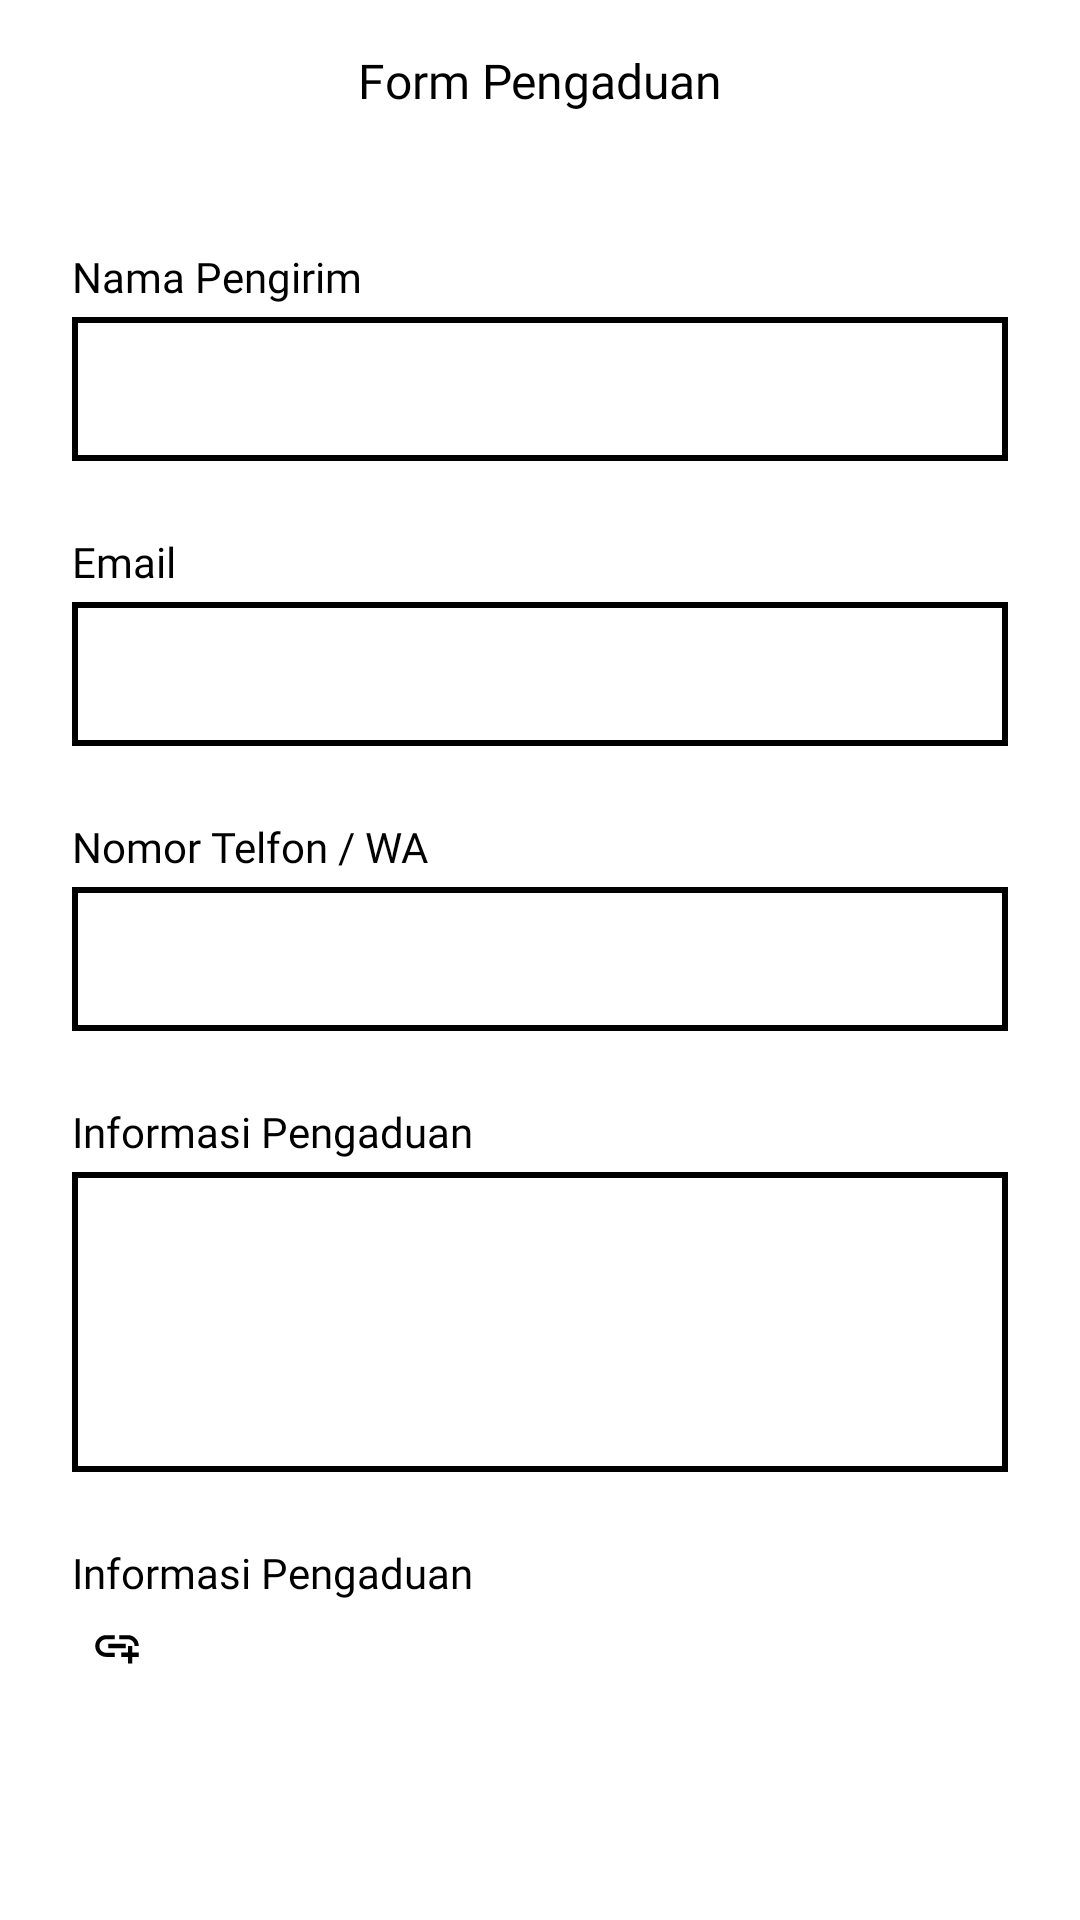

Screen size 1080px x 1920px. Icon name, then its center in pixels as (x=x, y=y):
attach: (x=117, y=1649)
